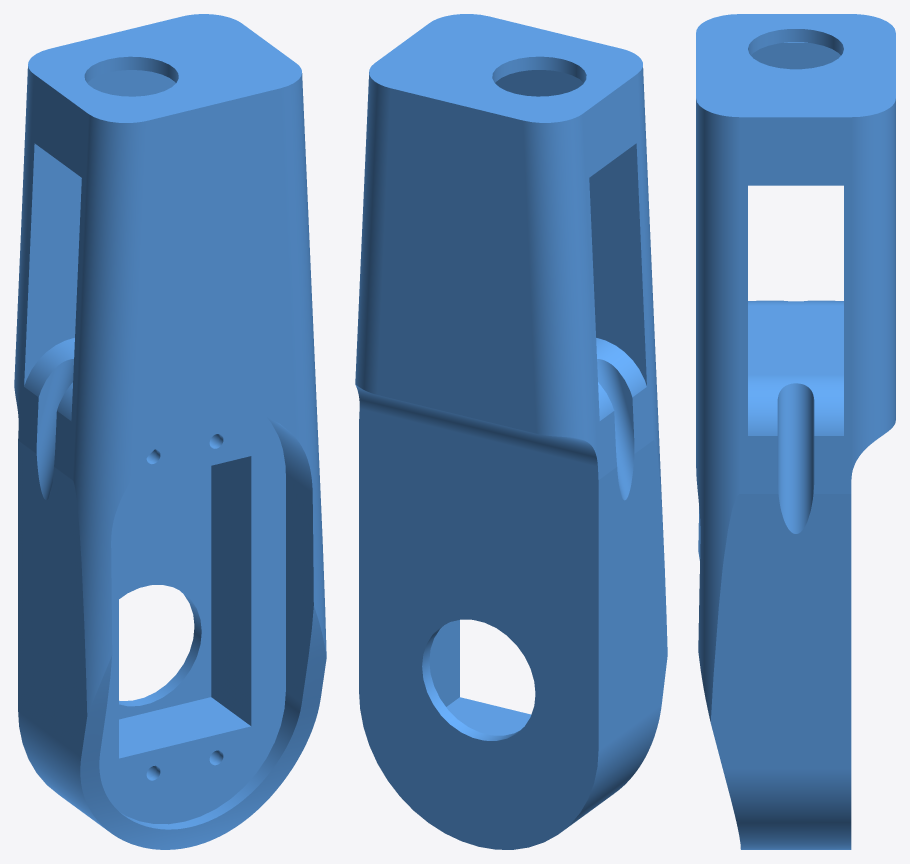
File: arm_2.glb
3 views of the same model, side by side, from view 1: azimuth 30°, elevation 25°; view 2: azimuth 150°, elevation 25°; view 3: azimuth 270°, elevation 25° (orthographic).
Parts seen in each view (by area): view 1: Arm 02 v3.SLDPRT; view 2: Arm 02 v3.SLDPRT; view 3: Arm 02 v3.SLDPRT.
Part boxes in pixels (x1,y1,x2,y2): Arm 02 v3.SLDPRT: (14, 14, 326, 849); Arm 02 v3.SLDPRT: (355, 14, 667, 849); Arm 02 v3.SLDPRT: (696, 14, 895, 849).
Size of the model in its own units: 0.038 by 0.115 by 0.027.
